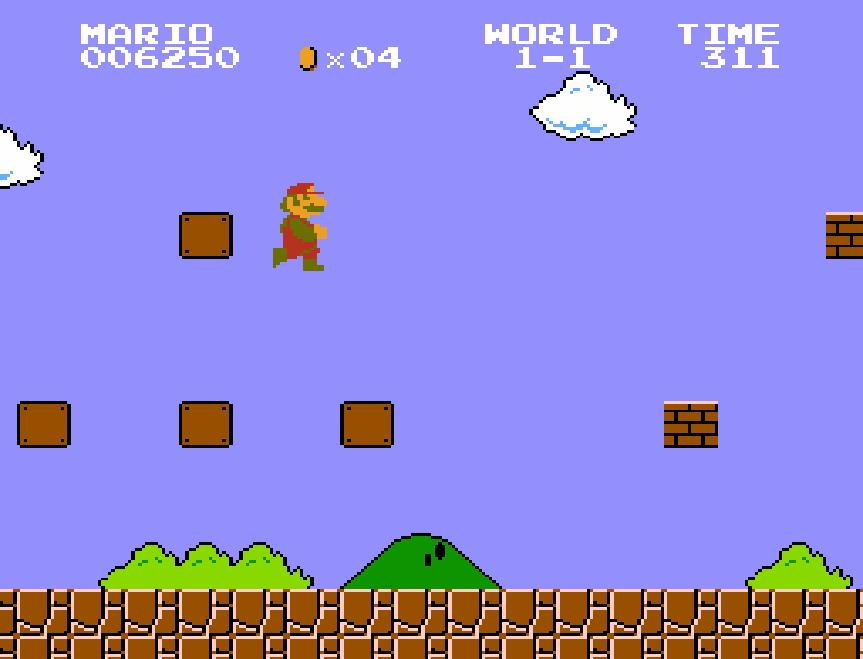big_mario: (270, 174, 328, 272)
